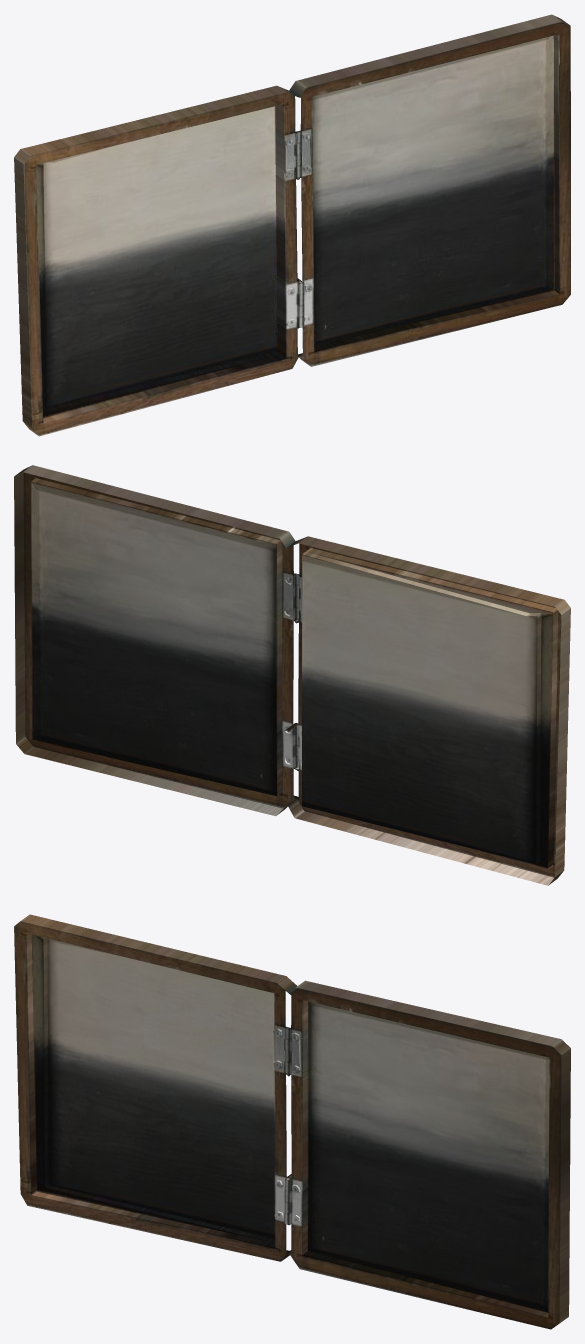
Rendered from canvas.fbx.
3 views of the same model, one above another, from view 1: azimuth 30°, elevation 25°; view 2: azimuth 150°, elevation 25°; view 3: azimuth 330°, elevation 25° (orthographic).
Parts seen in each view (by area): view 1: photo_2025-05-18_15-10-05 (2); view 2: photo_2025-05-18_15-10-05 (2); view 3: photo_2025-05-18_15-10-05 (2).
Boxes of the visible parts, x1,y1,x2,y2 form: photo_2025-05-18_15-10-05 (2): (14, 14, 570, 436); photo_2025-05-18_15-10-05 (2): (14, 465, 570, 885); photo_2025-05-18_15-10-05 (2): (14, 914, 570, 1329).
Size of the model in its own units: 137 by 68.4 by 5.31.
